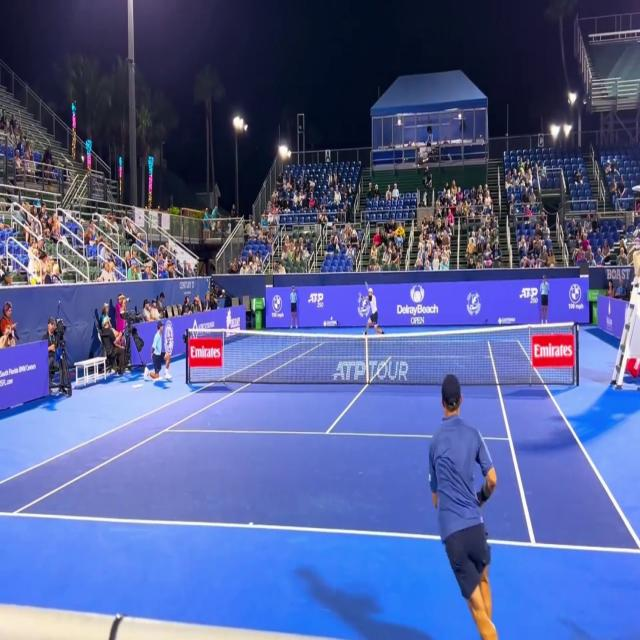tennisBall: (329, 311, 335, 325)
